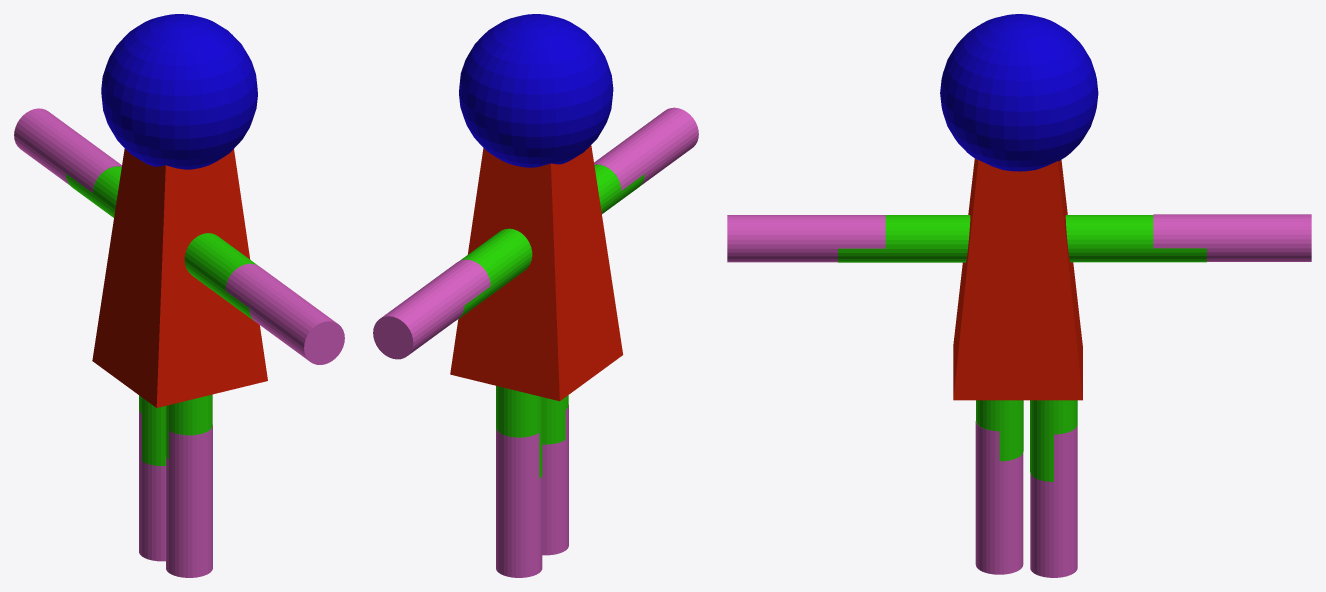
The model's file is human.fbx.
3 views of the same model, side by side, from view 1: azimuth 30°, elevation 25°; view 2: azimuth 150°, elevation 25°; view 3: azimuth 270°, elevation 25° (orthographic). The views are drawn at different scales.
Parts seen in each view (by area): view 1: Body, Head, LeftLeg, leftHand, RightHand, RightLeg, LeftArm, LeftKnee, RightKnee, RightArm; view 2: Body, Head, RightLeg, RightHand, leftHand, LeftLeg, RightArm, RightKnee, LeftArm, LeftKnee; view 3: Body, Head, leftHand, RightHand, LeftLeg, RightLeg, RightArm, LeftArm, RightKnee, LeftKnee.
Boxes of the visible parts, x1,y1,x2,y2 form: Body: (92, 148, 267, 407); Head: (101, 14, 257, 169); LeftLeg: (166, 425, 212, 577); leftHand: (225, 263, 344, 364); RightHand: (14, 108, 121, 192); RightLeg: (139, 410, 165, 561); LeftArm: (184, 233, 256, 321); LeftKnee: (165, 394, 212, 459); RightKnee: (139, 395, 165, 465); RightArm: (66, 166, 121, 217); Body: (450, 145, 623, 401); Head: (459, 14, 613, 167); RightLeg: (496, 429, 542, 577); RightHand: (373, 259, 490, 359); leftHand: (594, 107, 698, 190); LeftLeg: (542, 404, 568, 555); RightArm: (457, 228, 532, 319); RightKnee: (496, 386, 542, 478); LeftArm: (594, 164, 644, 213); LeftKnee: (542, 395, 568, 444); Body: (953, 158, 1082, 400); Head: (940, 14, 1098, 171); leftHand: (727, 215, 885, 262); RightHand: (1153, 214, 1311, 261); LeftLeg: (975, 421, 1023, 574); RightLeg: (1030, 425, 1077, 577); RightArm: (1065, 215, 1206, 262); LeftArm: (838, 215, 970, 262); RightKnee: (1030, 400, 1077, 481); LeftKnee: (976, 400, 1023, 461).
Bounding box in the file's own units: 2 × 7.62 × 7.38.
